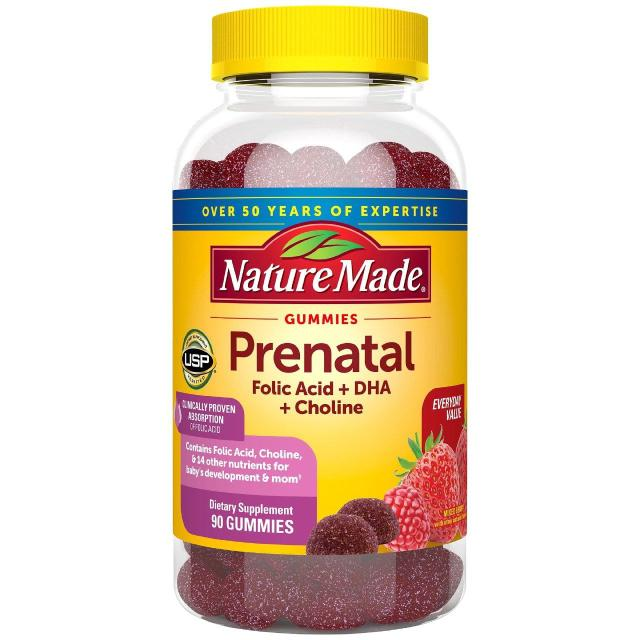pregnancy: (178, 133, 465, 622)
